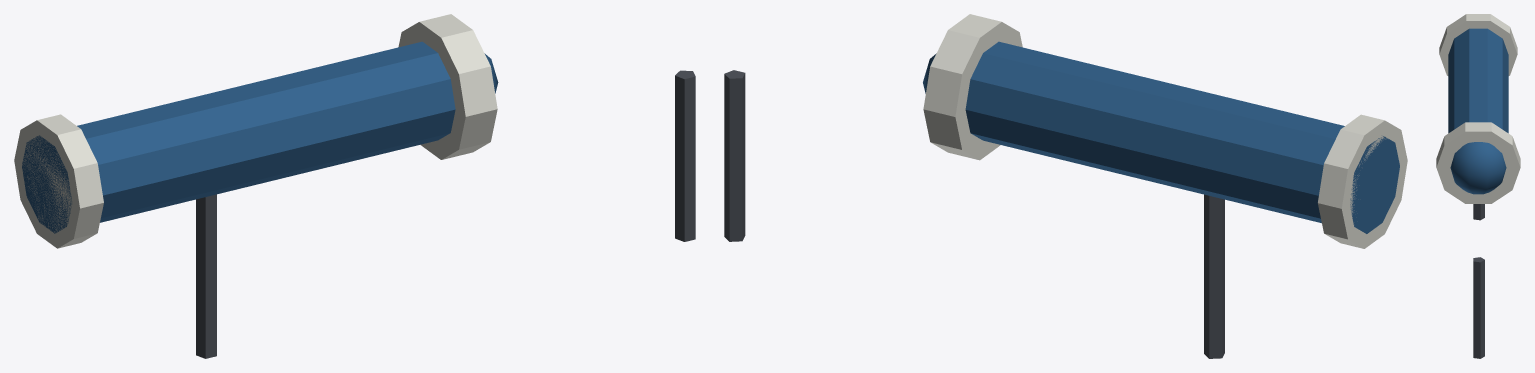
The model's file is PipeL_End.fbx.
3 views of the same model, side by side, from view 1: azimuth 30°, elevation 25°; view 2: azimuth 150°, elevation 25°; view 3: azimuth 270°, elevation 25° (orthographic). The views are drawn at different scales.
Parts seen in each view (by area): view 1: PipeL_End_Body; view 2: PipeL_End_Body; view 3: PipeL_End_Body.
Part boxes in pixels (x1,y1,x2,y2): PipeL_End_Body: [14, 14, 695, 358]; PipeL_End_Body: [724, 14, 1407, 358]; PipeL_End_Body: [1436, 14, 1520, 358].
Bounding box in the file's own units: 0.8114 × 0.3232 × 0.154.
